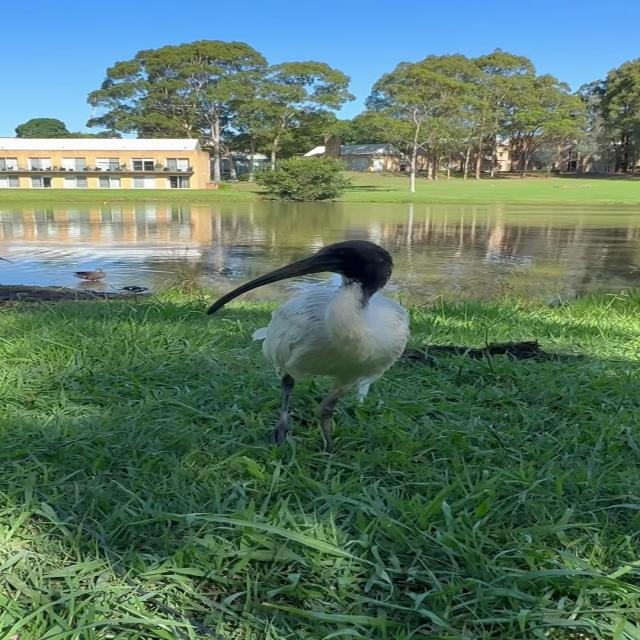Birds-Ibis: (204, 238, 418, 458)
Birds-Other: (69, 264, 114, 290), (118, 282, 154, 298)
